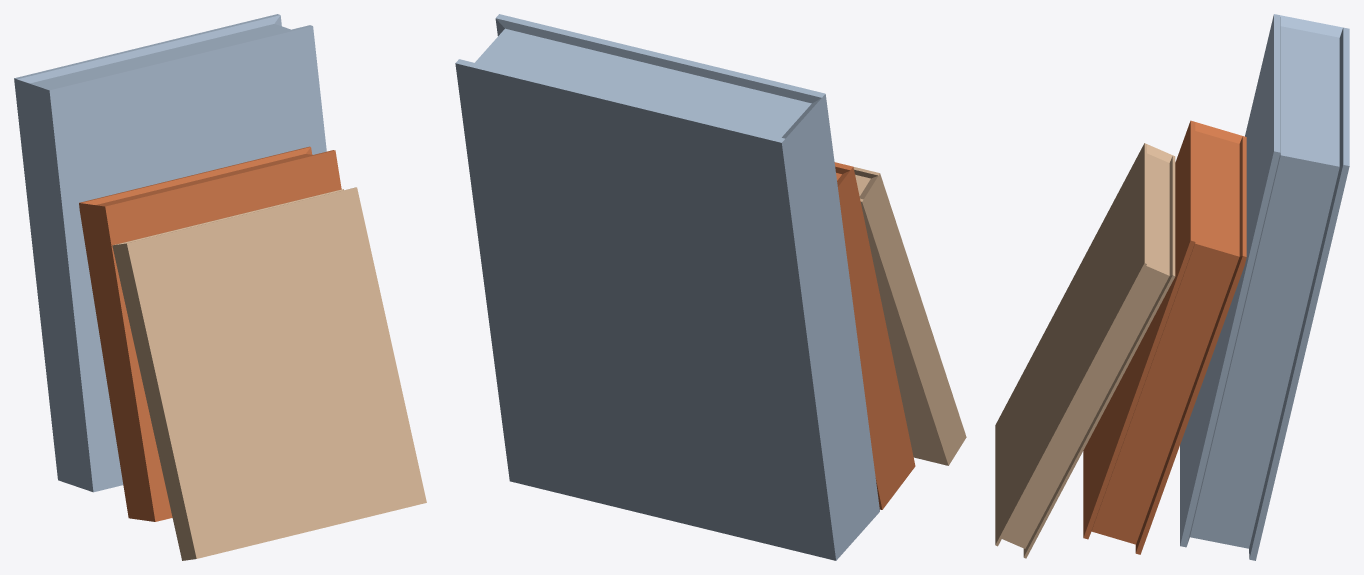
Rendered from books.fbx.
The picture shows the model from 3 angles, left to right: view 1: azimuth 30°, elevation 25°; view 2: azimuth 150°, elevation 25°; view 3: azimuth 270°, elevation 25°; orthographic projection. The views are drawn at different scales.
Visible parts, largest first — view 1: books; view 2: books; view 3: books.
Part boxes in pixels (x1,y1,x2,y2): books: (14, 14, 426, 560); books: (455, 14, 966, 560); books: (995, 14, 1349, 560).
Bounding box in the file's own units: 18.8 × 26.55 × 20.5.
